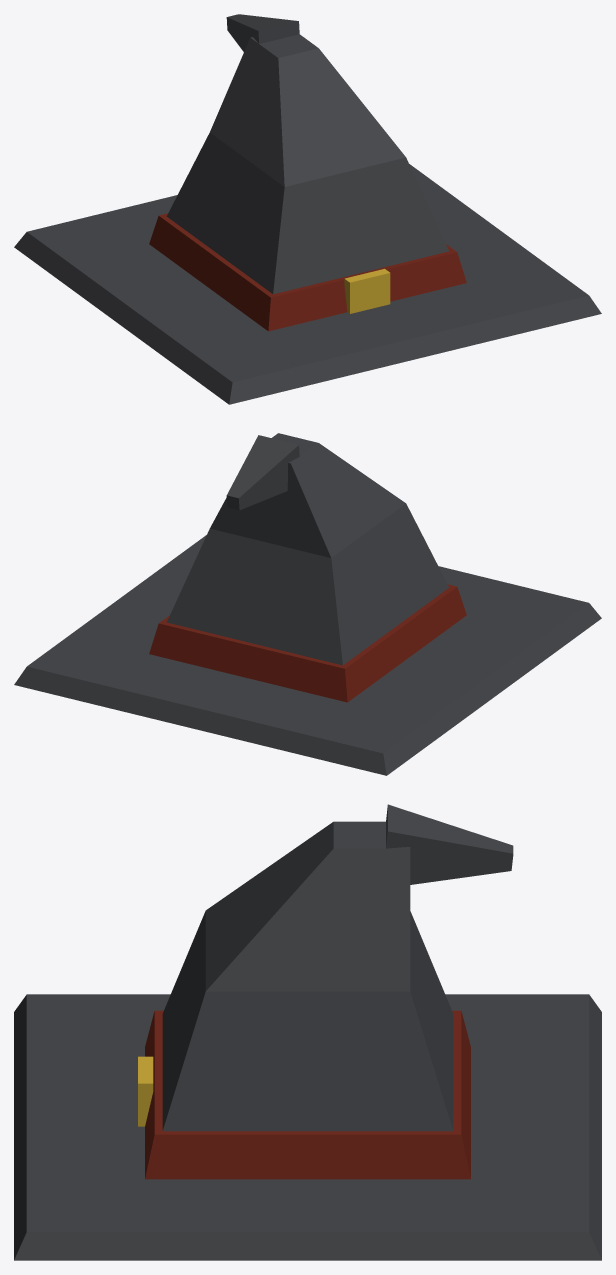
File: gear_head_witch_hat.glb
3 renders of one model, top to bottom at view 1: azimuth 30°, elevation 25°; view 2: azimuth 150°, elevation 25°; view 3: azimuth 270°, elevation 25°, orthographic. The views are drawn at different scales.
Parts seen in each view (by area): view 1: head; view 2: head; view 3: head.
Part boxes in pixels (box(x1,y1,x2,y2)): head: box(14, 14, 601, 404); head: box(14, 433, 601, 775); head: box(14, 804, 601, 1260).
Size of the model in its own units: 0.46 by 0.2749 by 0.46.
